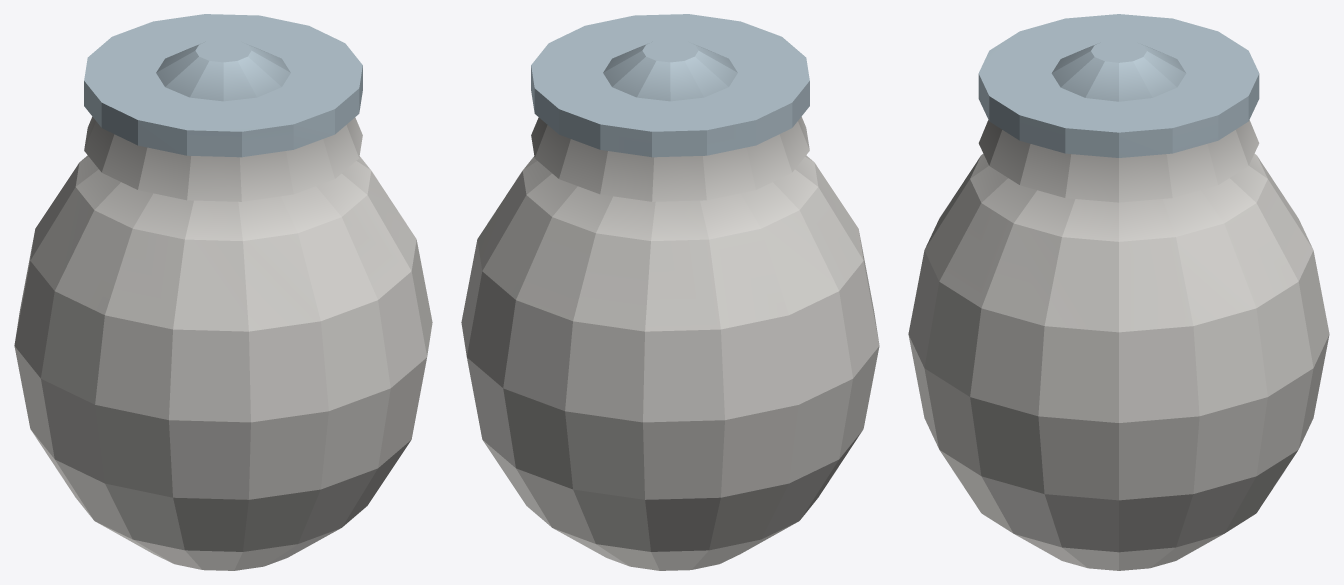
File: furn_onggi__white.glb
3 views of the same model, side by side, from view 1: azimuth 30°, elevation 25°; view 2: azimuth 150°, elevation 25°; view 3: azimuth 270°, elevation 25° (orthographic).
Bounding box in the file's own units: 0.6 × 0.79 × 0.6.
